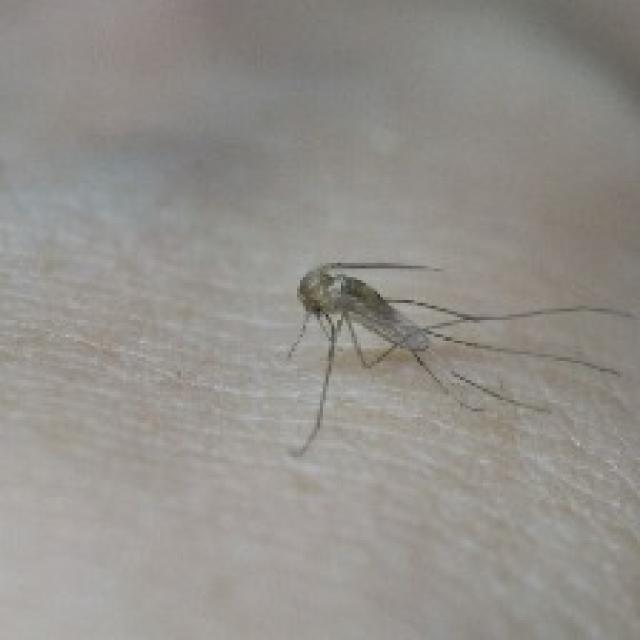culex: (283, 257, 637, 457)
